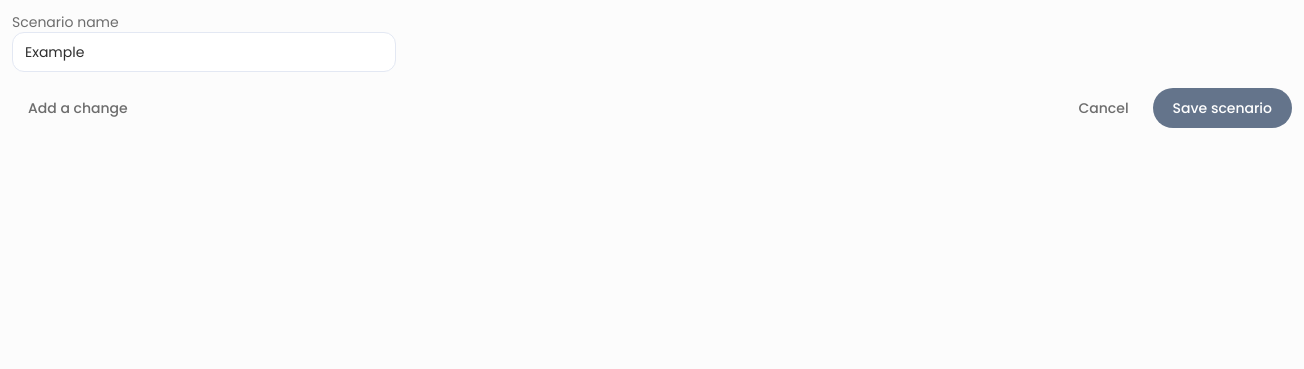
without Payroll, a hire takes a typed figure and says why
The width and height of the screenshot is (1304, 369).
Click the button "Add a change".
click(78, 108)  # box [12,88,144,128]
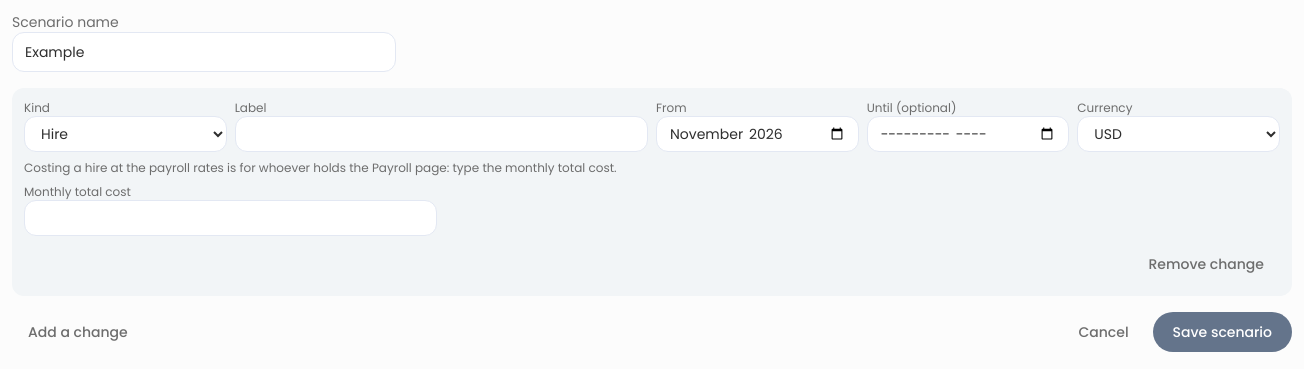
Expected: the text "for whoever holds the Payroll page" is shown, [24,159,617,176]
Expected: the field labelled "Monthly total cost" is shown, [24,200,437,236]
